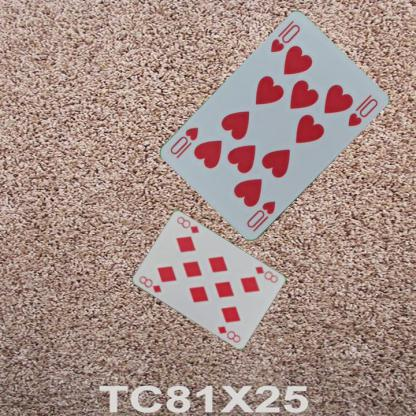10h: (244, 199, 277, 233), (268, 22, 301, 54)
8d: (136, 273, 162, 294), (253, 264, 279, 284)
